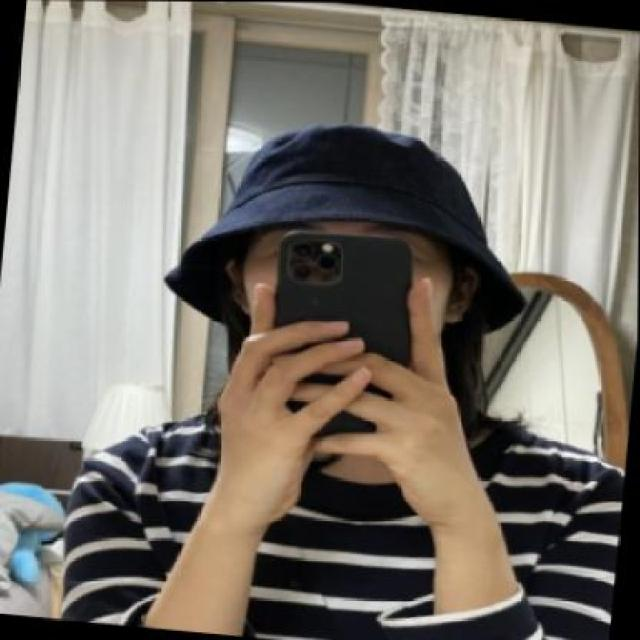hat: (165, 123, 527, 332)
